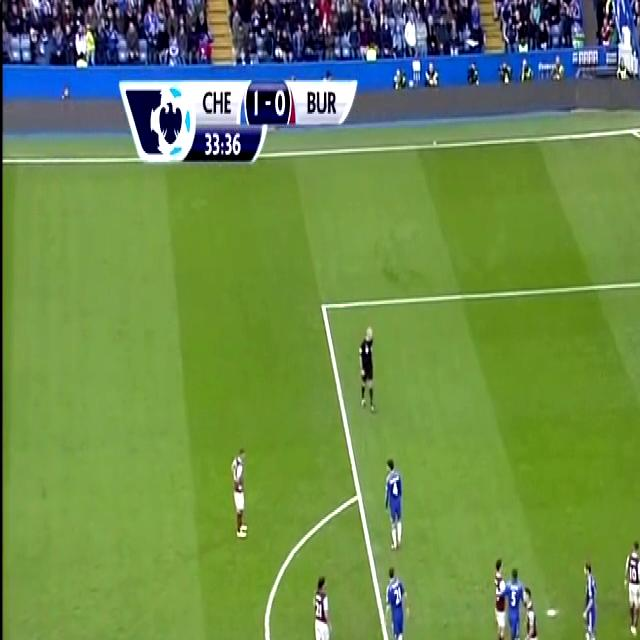referee: (351, 317, 376, 425)
soccer-player: (229, 438, 256, 551), (381, 450, 409, 552), (379, 560, 412, 640), (306, 563, 340, 640), (485, 551, 511, 640), (619, 530, 640, 640), (579, 554, 605, 640), (519, 585, 545, 640), (630, 528, 640, 640)
